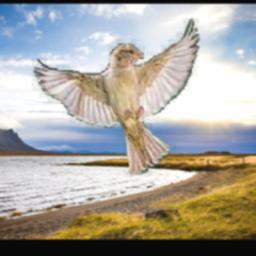Sparrow: (33, 18, 201, 176)
